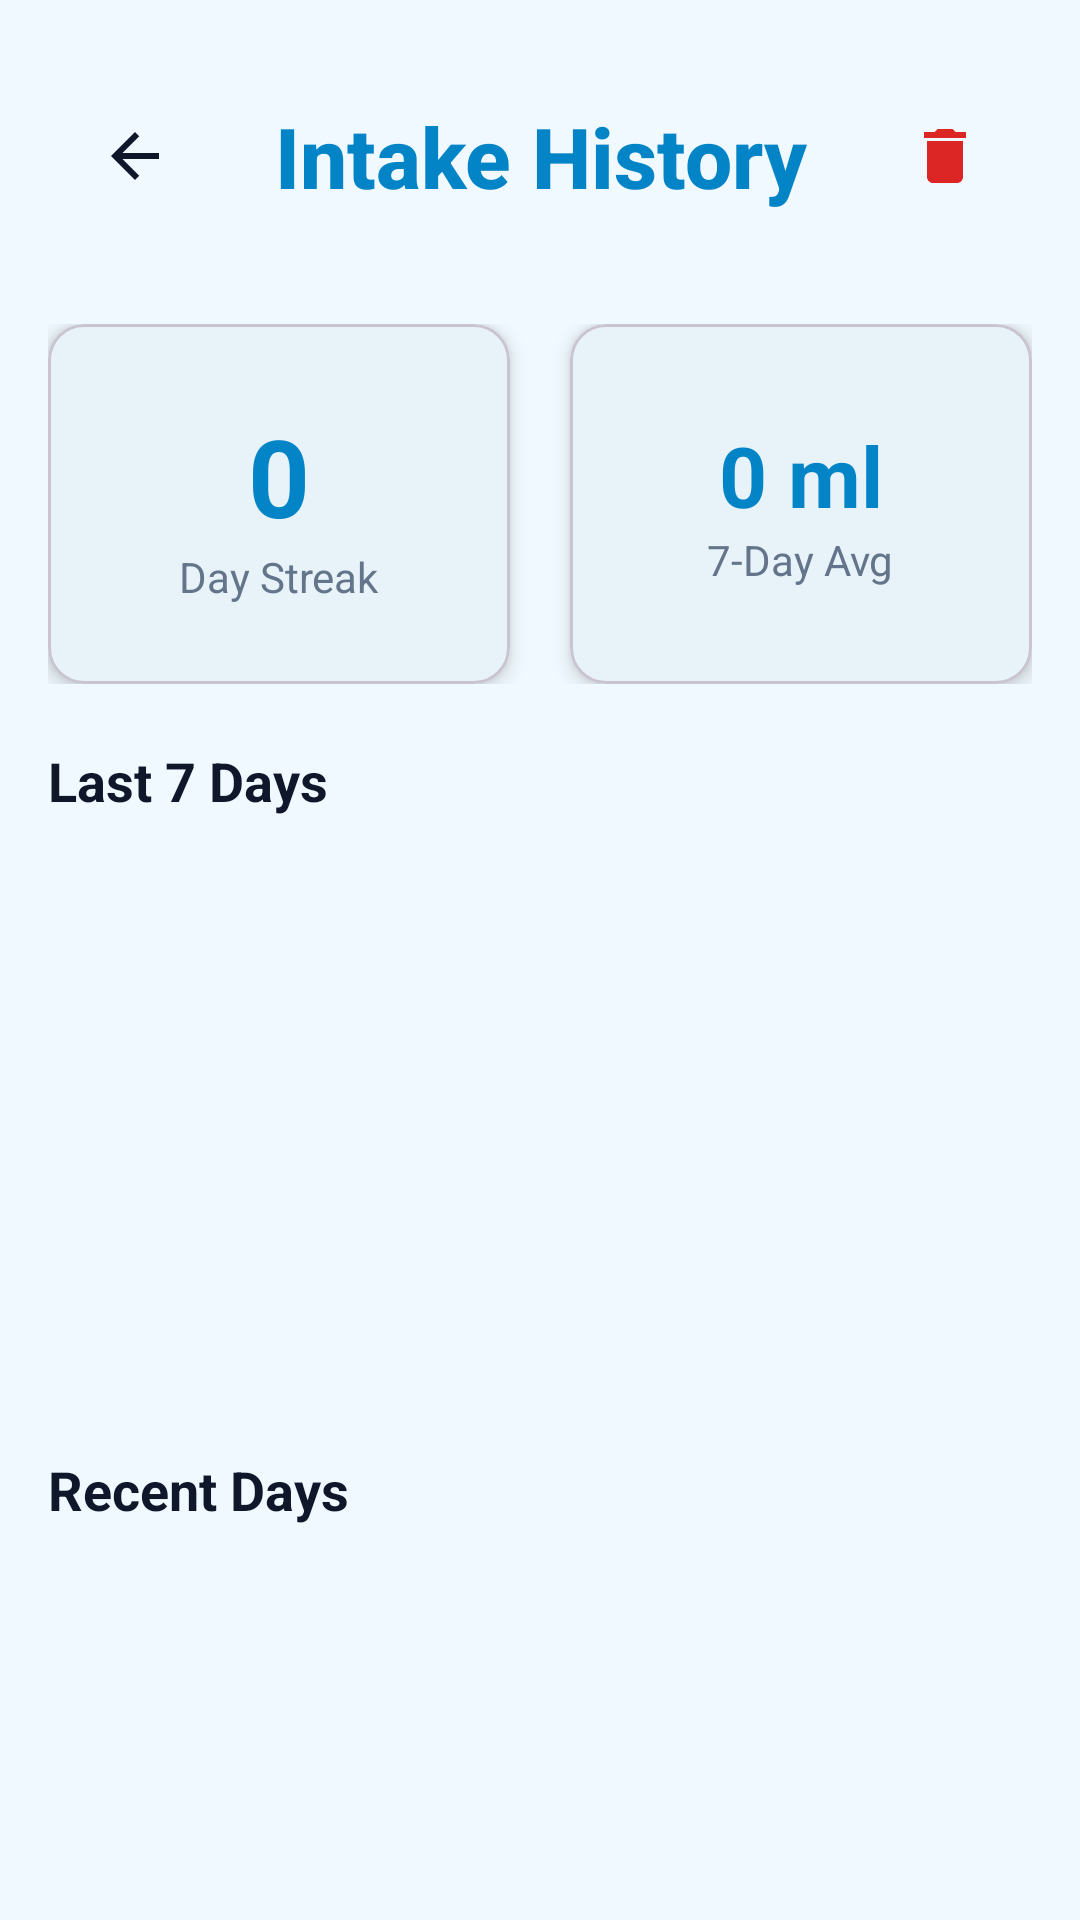

Named icons in this screenshot (1080x1920) and their bounding boxes, BBox(x1, y1, x2, y2):
Clear History: BBox(924, 129, 966, 183)
Navigate back: BBox(111, 132, 159, 180)
